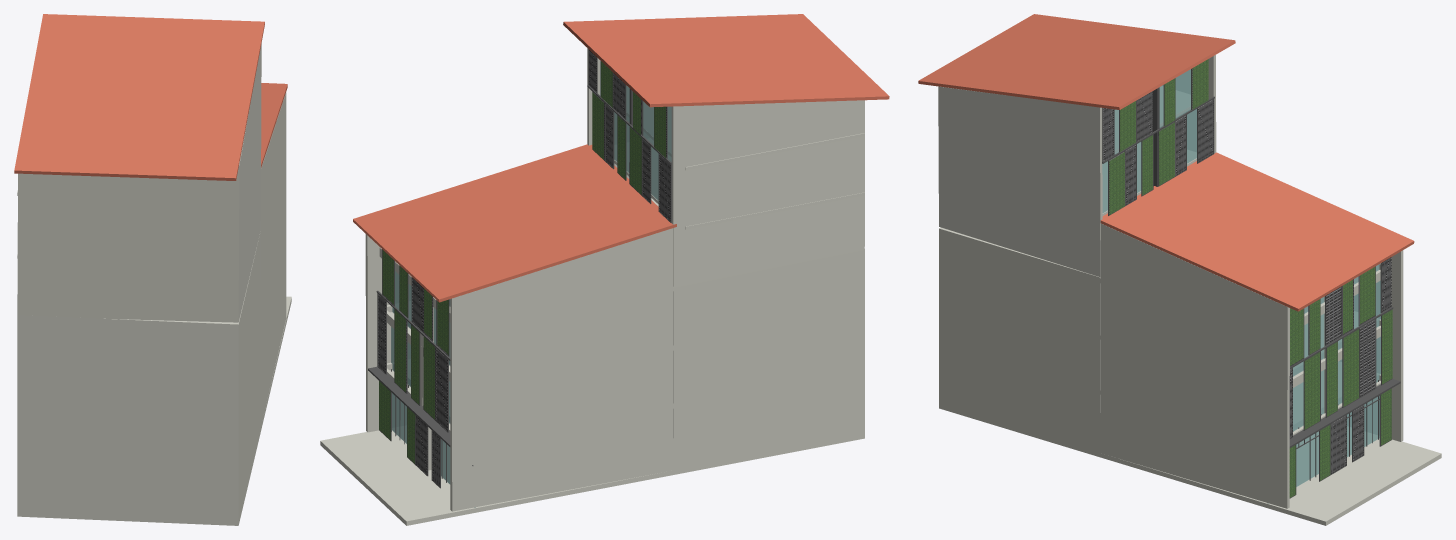
3 views of the same model, side by side, from view 1: azimuth 30°, elevation 25°; view 2: azimuth 150°, elevation 25°; view 3: azimuth 270°, elevation 25° (orthographic). The views are drawn at different scales.
Parts seen in each view (by area): view 1: SketchUp.1458, SketchUp.1531, SketchUp.1460, SketchUp.1462, SketchUp.1457, SketchUp.1456, SketchUp.1465, SketchUp.1459, SketchUp.1472, SketchUp.1473; view 2: SketchUp.1461, SketchUp.1458, SketchUp.1460, SketchUp.1459, SketchUp.1531, SketchUp.1456, SketchUp.1462, SketchUp.1486, SketchUp.1464, SketchUp.1455, SketchUp.1454, SketchUp.1453 (+8 smaller); view 3: SketchUp.1462, SketchUp.1458, SketchUp.1460, SketchUp.1459, SketchUp.1531, SketchUp.1456, SketchUp.1486, SketchUp.1461, SketchUp.1464, SketchUp.1465, SketchUp.1473, SketchUp.1472 (+24 smaller).
Part boxes in pixels (left/top/right/bottom): SketchUp.1458: left=17, top=242, right=260, bottom=520; SketchUp.1531: left=14, top=14, right=264, bottom=180; SketchUp.1460: left=17, top=43, right=261, bottom=322; SketchUp.1462: left=260, top=92, right=286, bottom=426; SketchUp.1457: left=17, top=232, right=260, bottom=334; SketchUp.1456: left=17, top=296, right=291, bottom=525; SketchUp.1465: left=17, top=262, right=283, bottom=455; SketchUp.1459: left=261, top=83, right=287, bottom=167; SketchUp.1472: left=17, top=232, right=275, bottom=393; SketchUp.1473: left=17, top=232, right=260, bottom=330; SketchUp.1461: left=450, top=228, right=673, bottom=511; SketchUp.1458: left=673, top=251, right=864, bottom=470; SketchUp.1460: left=587, top=48, right=864, bottom=287; SketchUp.1459: left=353, top=144, right=676, bottom=302; SketchUp.1531: left=563, top=14, right=889, bottom=107; SketchUp.1456: left=320, top=426, right=864, bottom=525; SketchUp.1462: left=365, top=234, right=410, bottom=432; SketchUp.1486: left=391, top=271, right=475, bottom=507; SketchUp.1464: left=600, top=61, right=671, bottom=200; SketchUp.1455: left=626, top=87, right=864, bottom=170; SketchUp.1454: left=614, top=138, right=864, bottom=229; SketchUp.1453: left=368, top=366, right=450, bottom=446; SketchUp.1462: left=1100, top=223, right=1289, bottom=508; SketchUp.1458: left=939, top=232, right=1100, bottom=452; SketchUp.1460: left=938, top=55, right=1216, bottom=277; SketchUp.1459: left=1100, top=152, right=1414, bottom=311; SketchUp.1531: left=918, top=14, right=1235, bottom=109; SketchUp.1456: left=939, top=404, right=1441, bottom=525; SketchUp.1486: left=1267, top=264, right=1380, bottom=503; SketchUp.1461: left=1341, top=250, right=1403, bottom=441; SketchUp.1464: left=1102, top=69, right=1196, bottom=212; SketchUp.1465: left=939, top=341, right=1341, bottom=443; SketchUp.1473: left=939, top=230, right=1264, bottom=332; SketchUp.1472: left=950, top=292, right=1357, bottom=388.
Bounding box in the file's own units: 2.49 × 2.16 × 2.87.
Materials: 6 (2 with a texture image).
